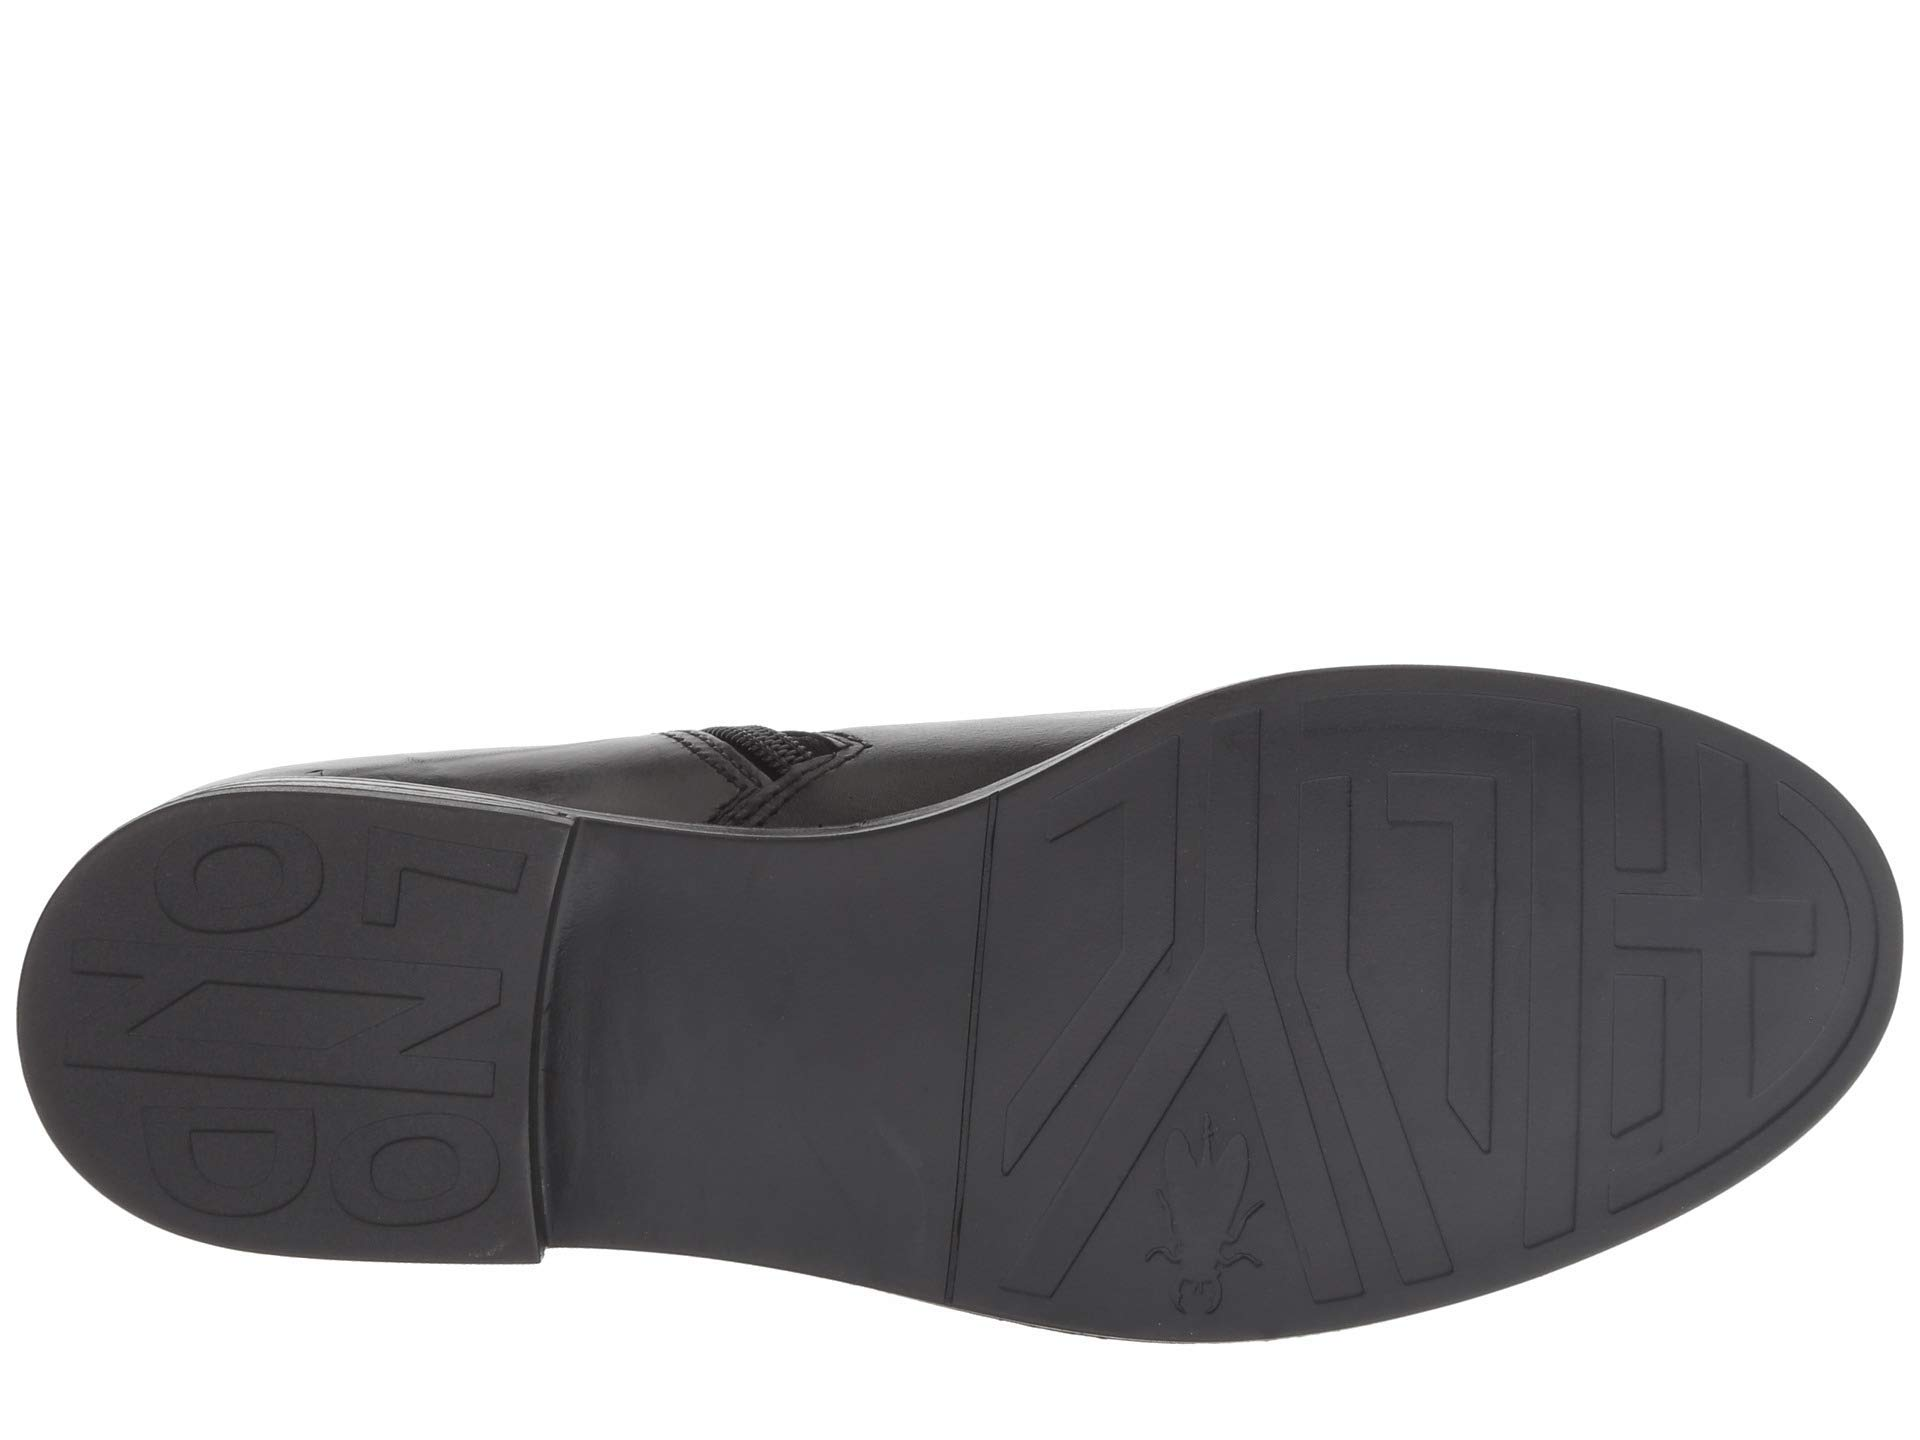chevron: (1014, 1035, 1330, 1330)
circle: (113, 777, 531, 1246)
star: (1014, 1035, 1330, 1330)
text: (113, 777, 531, 1246)
